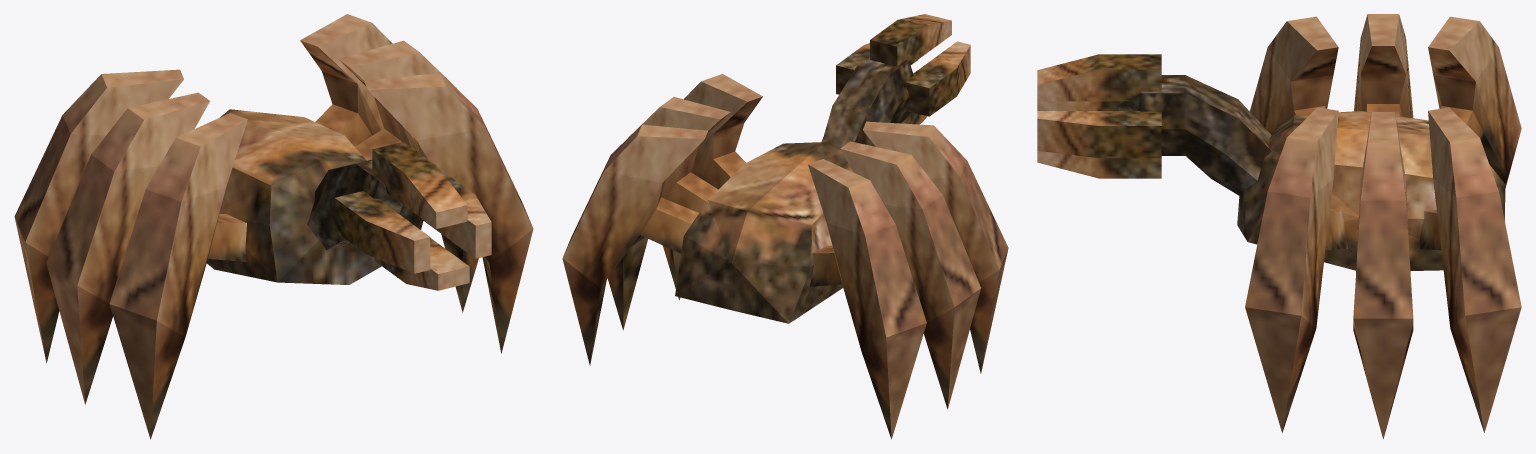
File: erepede.obj
3 renders of one model, left to right at view 1: azimuth 30°, elevation 25°; view 2: azimuth 150°, elevation 25°; view 3: azimuth 270°, elevation 25°, orthographic. The views are drawn at different scales.
Parts seen in each view (by area): view 1: FrontRightLeg, MiddleRightLeg, Body, FrontLeftLeg, BackRightLeg, BackLeftLeg, RightMouth, TopMouth, MiddleLeftLeg, Head, LeftMouth, BottomMouth; view 2: Body, BackRightLeg, BackLeftLeg, MiddleRightLeg, FrontRightLeg, MiddleLeftLeg, Head, FrontLeftLeg, RightMouth, TopMouth, LeftMouth; view 3: FrontLeftLeg, BackLeftLeg, MiddleLeftLeg, Body, Head, BackRightLeg, FrontRightLeg, LeftMouth, TopMouth, MiddleRightLeg, BottomMouth, RightMouth.
Part boxes in pixels (bbox=[...]): FrontRightLeg: bbox=[109, 113, 247, 439]; MiddleRightLeg: bbox=[46, 92, 209, 404]; Body: bbox=[207, 109, 381, 284]; FrontLeftLeg: bbox=[364, 73, 533, 353]; BackRightLeg: bbox=[14, 69, 183, 362]; BackLeftLeg: bbox=[300, 14, 397, 277]; RightMouth: bbox=[334, 191, 430, 273]; TopMouth: bbox=[372, 141, 467, 229]; MiddleLeftLeg: bbox=[338, 40, 478, 312]; Head: bbox=[307, 159, 423, 250]; LeftMouth: bbox=[423, 171, 491, 258]; BottomMouth: bbox=[374, 238, 469, 290]; Body: bbox=[675, 142, 853, 323]; BackRightLeg: bbox=[808, 159, 926, 439]; BackLeftLeg: bbox=[562, 124, 707, 365]; MiddleRightLeg: bbox=[840, 141, 980, 409]; FrontRightLeg: bbox=[863, 121, 1008, 373]; MiddleLeftLeg: bbox=[607, 97, 730, 330]; Head: bbox=[821, 57, 913, 149]; FrontLeftLeg: bbox=[662, 74, 762, 300]; RightMouth: bbox=[905, 41, 970, 116]; TopMouth: bbox=[870, 14, 951, 66]; LeftMouth: bbox=[836, 43, 917, 94]; FrontLeftLeg: bbox=[1245, 107, 1347, 432]; BackLeftLeg: bbox=[1418, 107, 1521, 432]; MiddleLeftLeg: bbox=[1353, 112, 1413, 439]; Body: bbox=[1237, 111, 1505, 270]; Head: bbox=[1119, 75, 1271, 197]; BackRightLeg: bbox=[1428, 16, 1521, 188]; FrontRightLeg: bbox=[1250, 16, 1338, 133]; LeftMouth: bbox=[1037, 111, 1161, 158]; TopMouth: bbox=[1037, 54, 1161, 101]; MiddleRightLeg: bbox=[1354, 14, 1413, 117]; BottomMouth: bbox=[1037, 151, 1161, 178]; RightMouth: bbox=[1037, 101, 1118, 110].
Size of the model in its own units: 2.15 by 1.44 by 2.18.
1 material, 1 textured.
